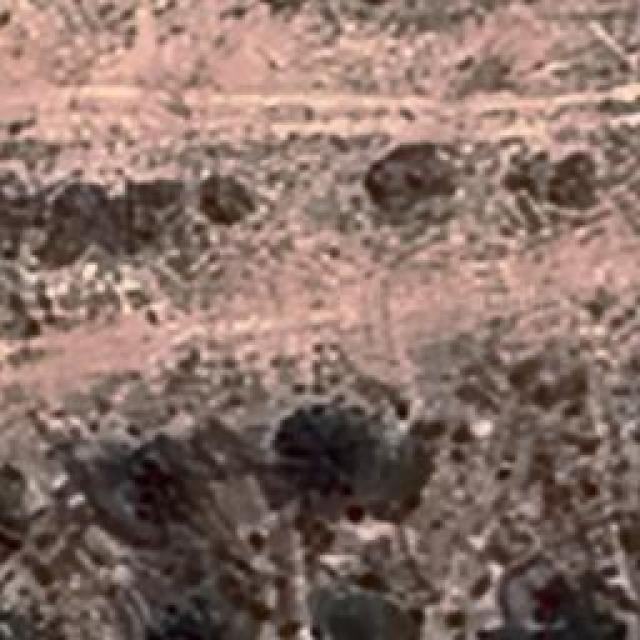PalmTree: (84, 53, 357, 613), (60, 38, 200, 621), (285, 404, 373, 486), (128, 446, 192, 516), (538, 600, 625, 640), (0, 466, 26, 564), (0, 462, 17, 556)
